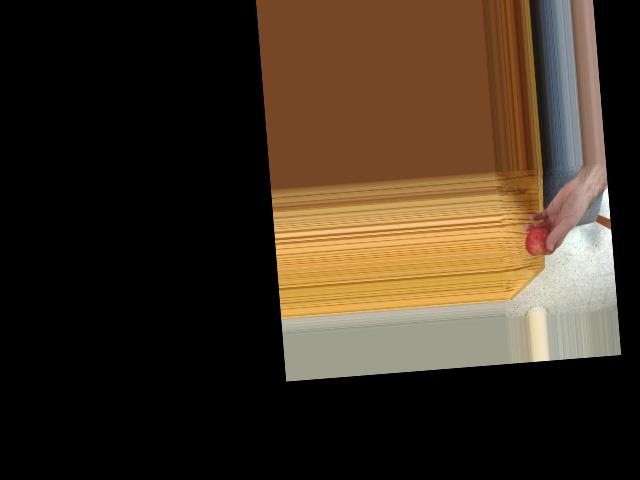apple: (525, 225, 557, 259)
